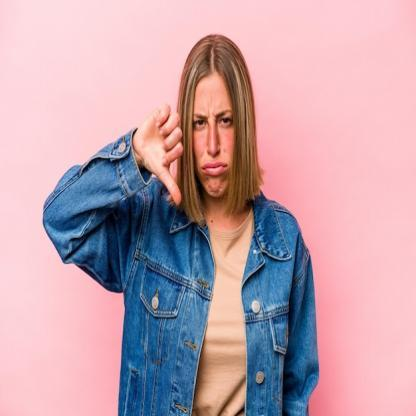thumb_down: (134, 99, 186, 209)
